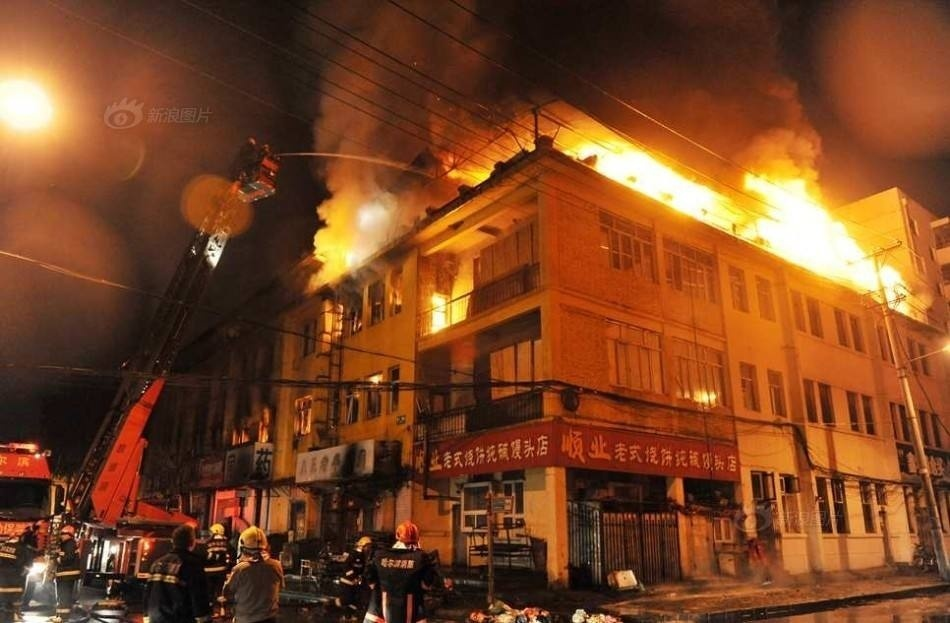fire: (565, 134, 935, 304), (311, 188, 397, 286), (1, 55, 60, 141), (424, 284, 468, 332)
